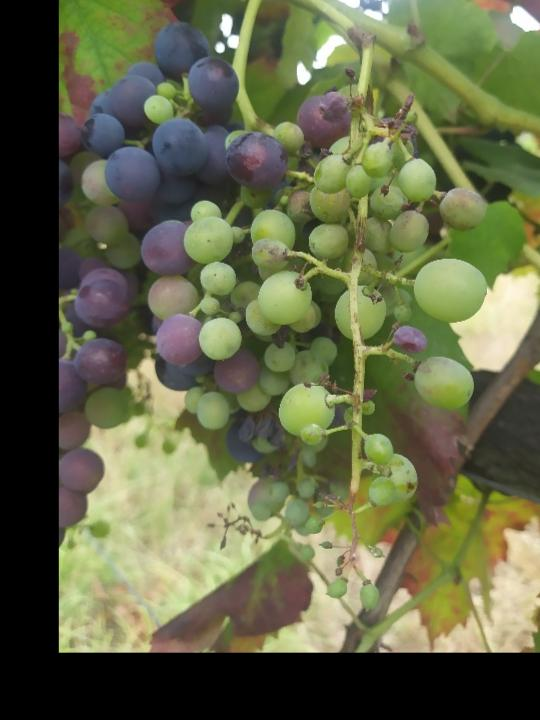grape: (181, 87, 493, 615)
